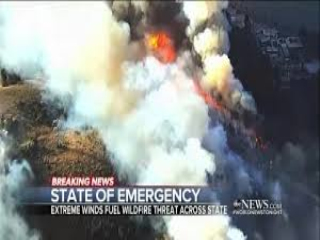smoke: (40, 13, 215, 183), (186, 3, 255, 108), (110, 4, 188, 39)
